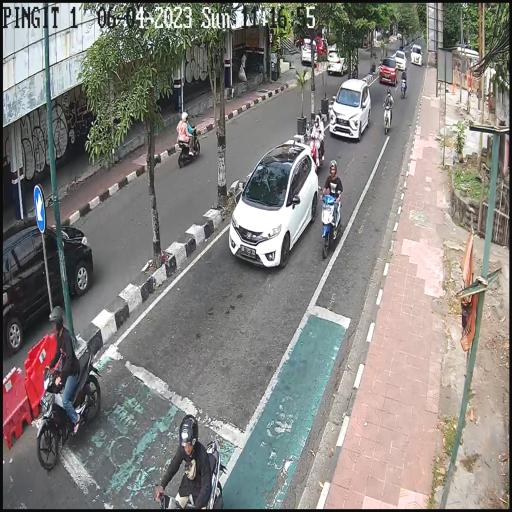mobil: (3, 207, 95, 350), (229, 137, 321, 269), (329, 78, 371, 139), (378, 56, 398, 88), (411, 43, 423, 67), (395, 48, 406, 71)
motor: (37, 338, 101, 473), (318, 186, 343, 252), (178, 124, 200, 167), (308, 137, 324, 169), (382, 101, 393, 131), (401, 78, 407, 100)
